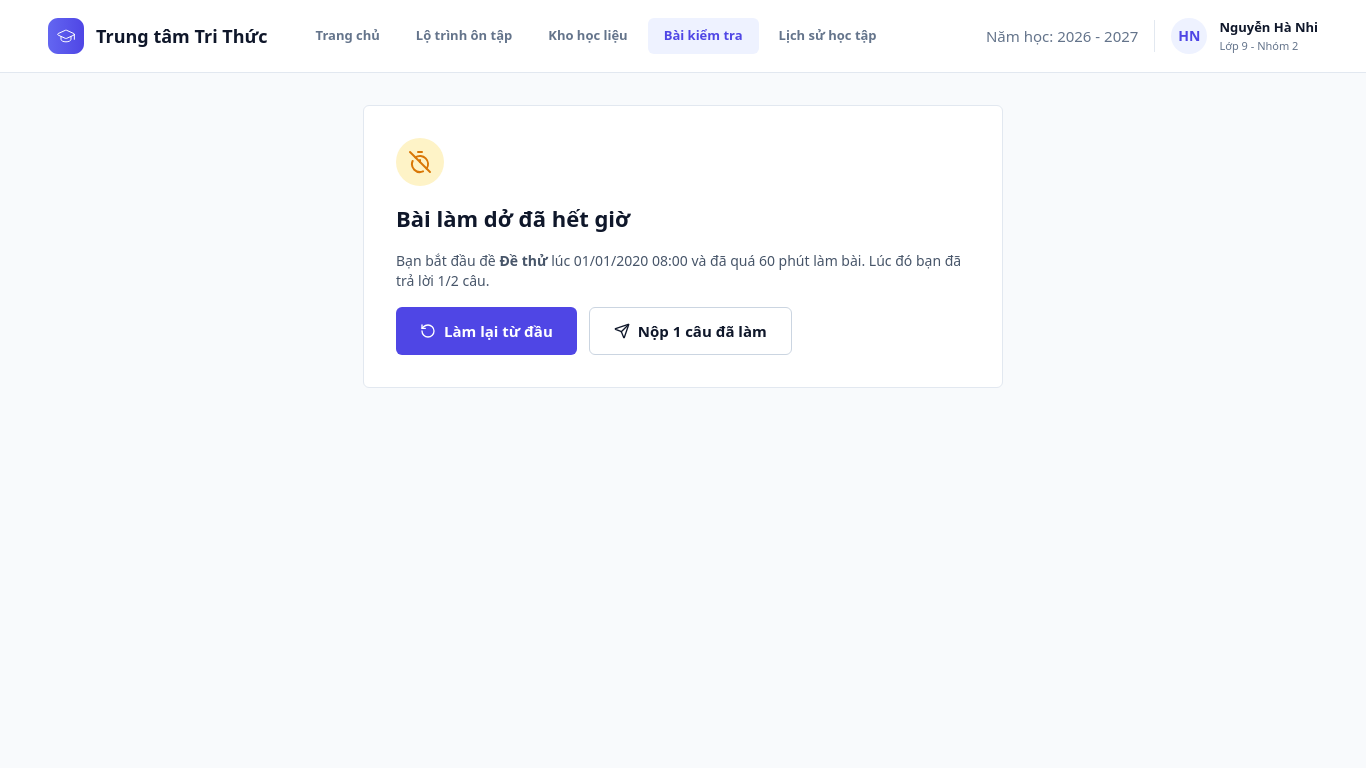
Scenario: bài làm dở đã hết giờ: hỏi học sinh, không tự nộp; chọn làm lại thì xóa đáp án cũ
Expected: the heading "Bài làm dở đã hết giờ" is shown, [396,203,630,233]
Expected: the button "Nộp 1 câu đã làm" is shown, [589,307,792,355]
Click the button "Làm lại từ đầu" at (486, 331), box [396,307,577,355]
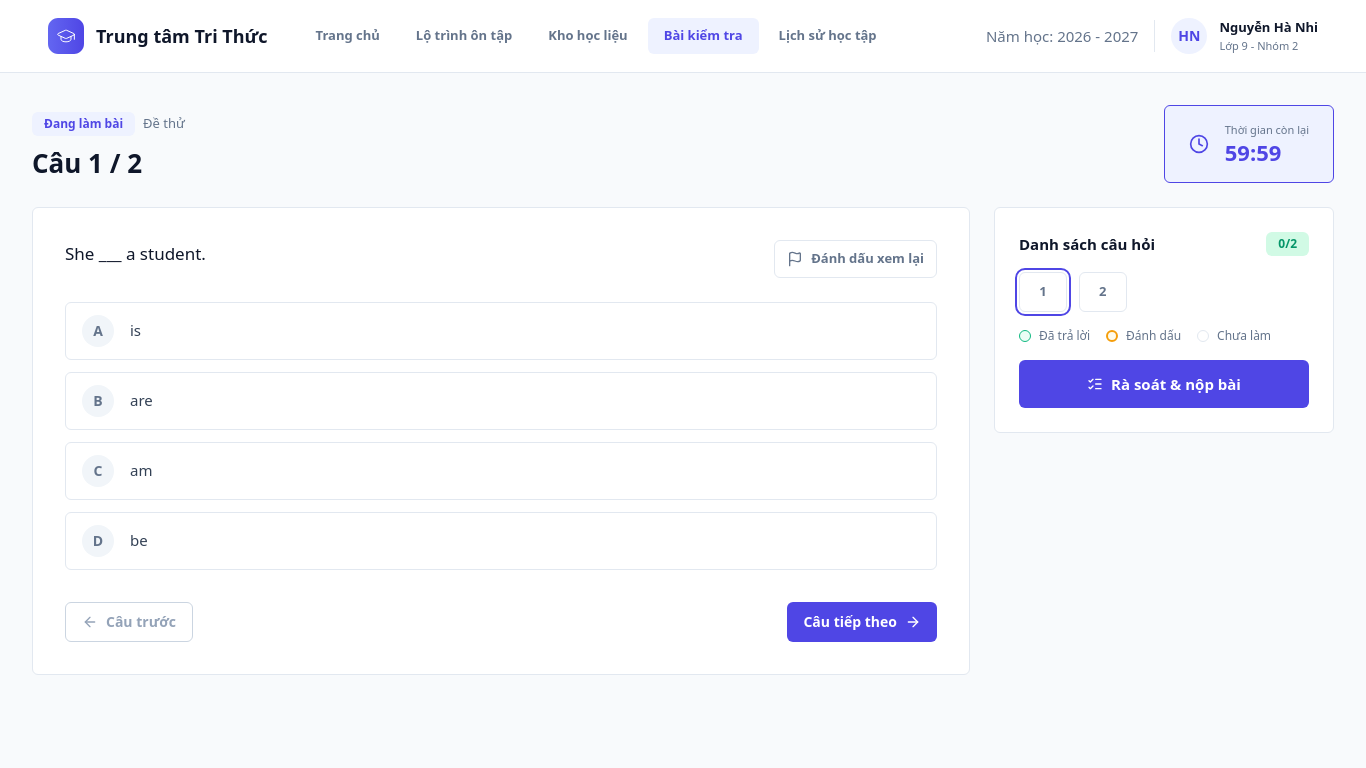
Expected: the text "She ___ a student." is shown, [65,240,206,268]
